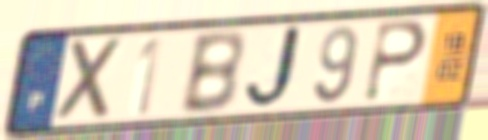1: (136, 36, 164, 116)
9: (311, 23, 360, 106)
B: (176, 27, 247, 117)
J: (242, 22, 311, 114)
P: (360, 18, 431, 105)
X: (54, 34, 128, 125)
